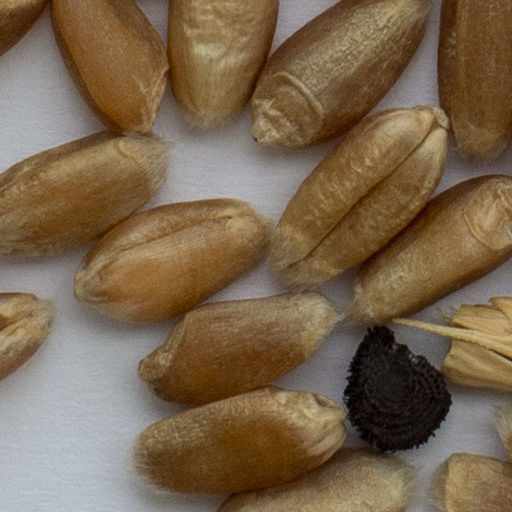Agrostemma-poly: (343, 326, 453, 451)
Peel-poly: (386, 295, 511, 394)
Wheat-grain-poly: (248, 0, 433, 146), (50, 0, 166, 131), (167, 0, 277, 128), (434, 0, 511, 161), (0, 291, 52, 381)
